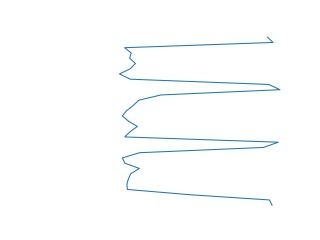majorRiverChannelBar: (118, 36, 281, 207)
